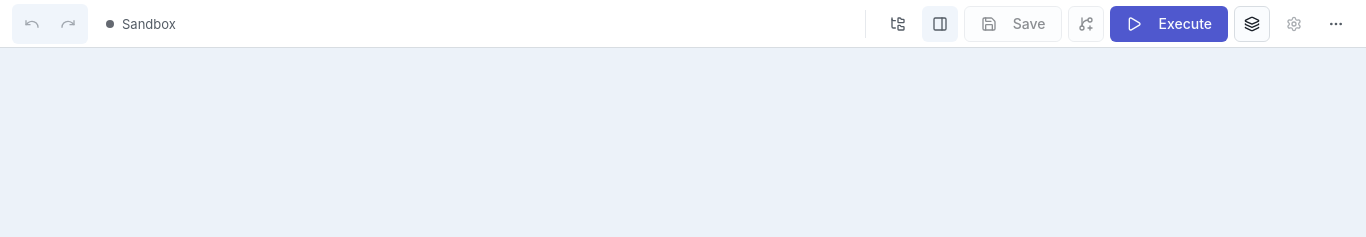
Test case: readOnly › disables the mutating ⋯ items
The width and height of the screenshot is (1366, 237).
Click the button named "More actions": (1336, 24) [1318,6,1354,42]
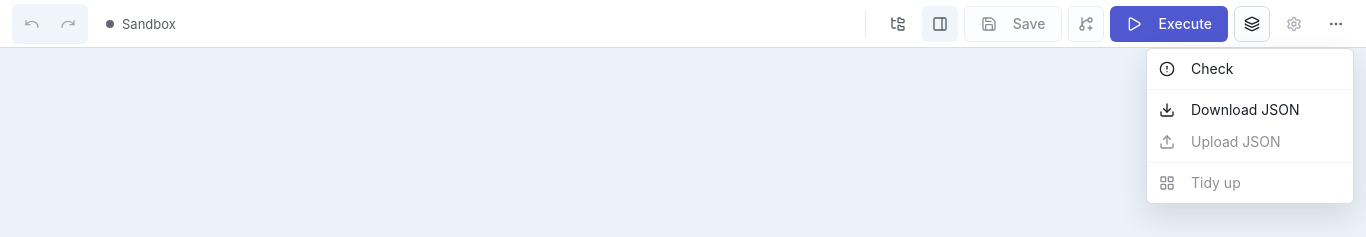
Expected: the menu is shown, [1146,48,1354,204]
